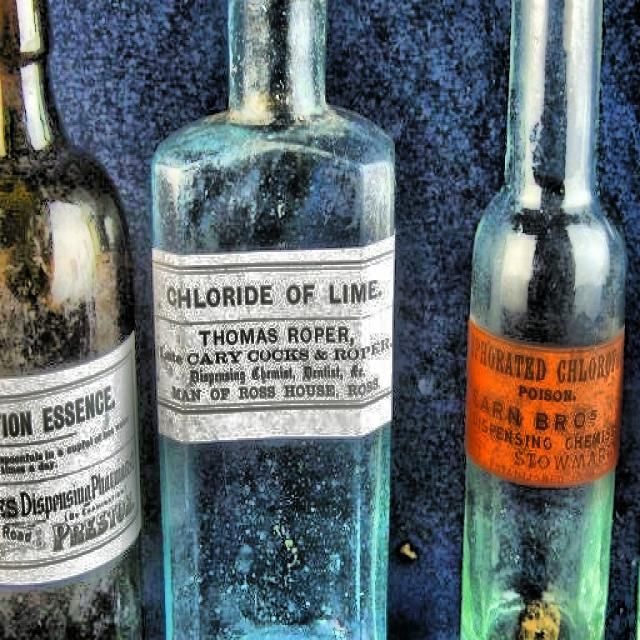glass: (151, 0, 396, 640), (459, 0, 627, 640)
